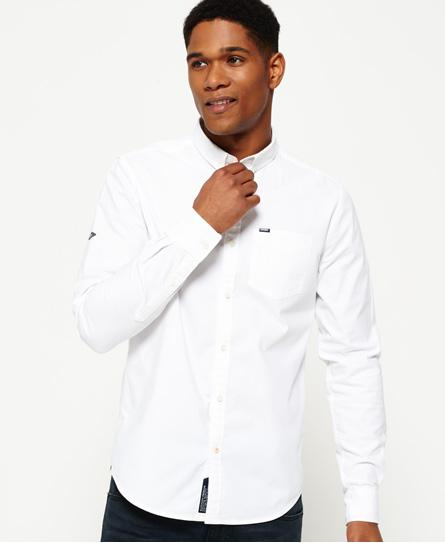teeshirt: (71, 120, 389, 534)
